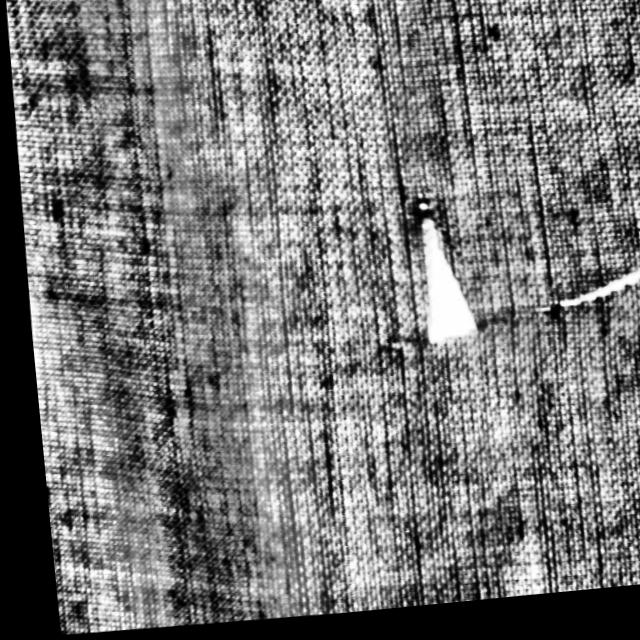Hole: (386, 188, 489, 387), (530, 240, 640, 348)
